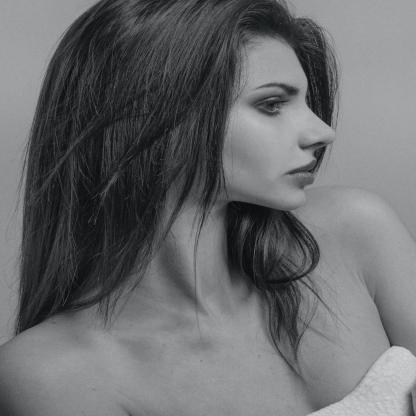Eye: (253, 95, 289, 116)
Mouth: (283, 159, 316, 184)
Nose: (298, 103, 336, 148)
